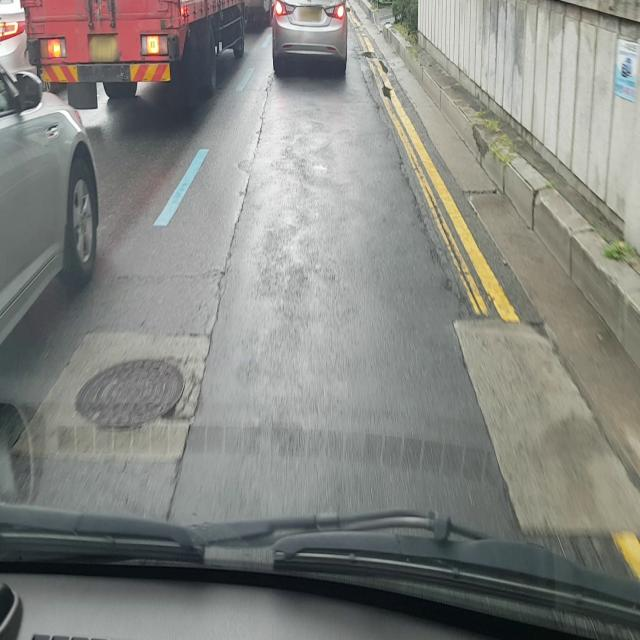Pothole: (74, 360, 207, 430)
